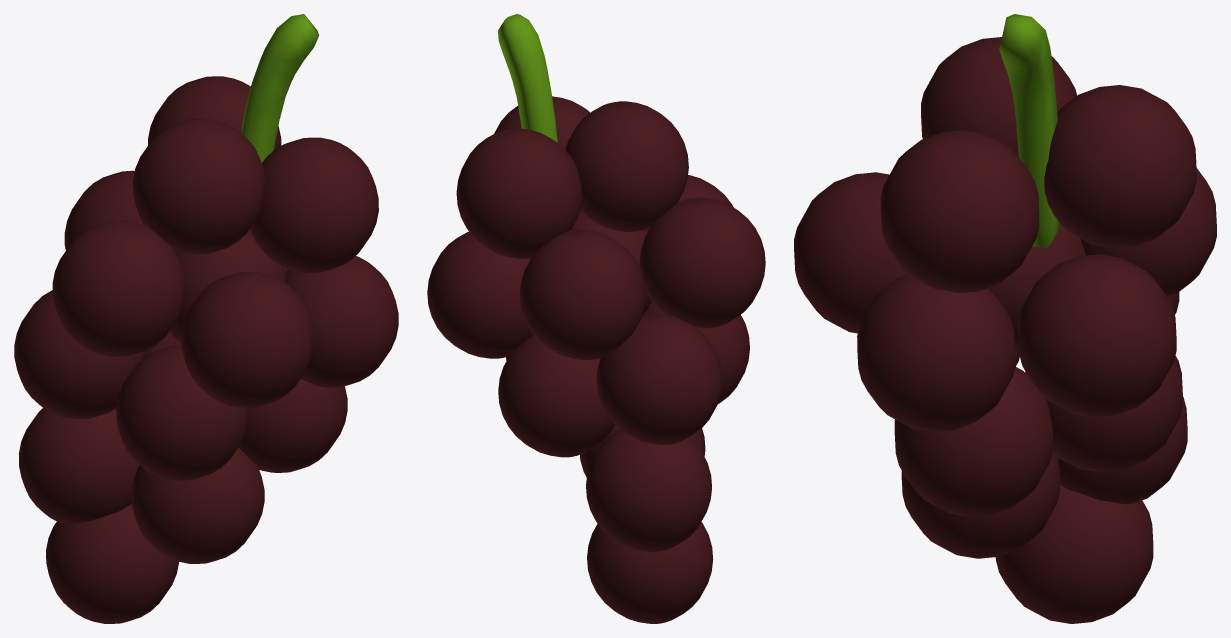
The model's file is grapes.glb.
The picture shows the model from 3 angles, left to right: view 1: azimuth 30°, elevation 25°; view 2: azimuth 150°, elevation 25°; view 3: azimuth 270°, elevation 25°; orthographic projection. The views are drawn at different scales.
Parts seen in each view (by area): view 1: Sphere.009; view 2: Sphere.009; view 3: Sphere.009.
Boxes of the visible parts, x1,y1,x2,y2 form: Sphere.009: (14,14,398,623); Sphere.009: (427,14,765,623); Sphere.009: (794,14,1216,623).
Size of the model in its own units: 1.02 by 1.87 by 1.03.
